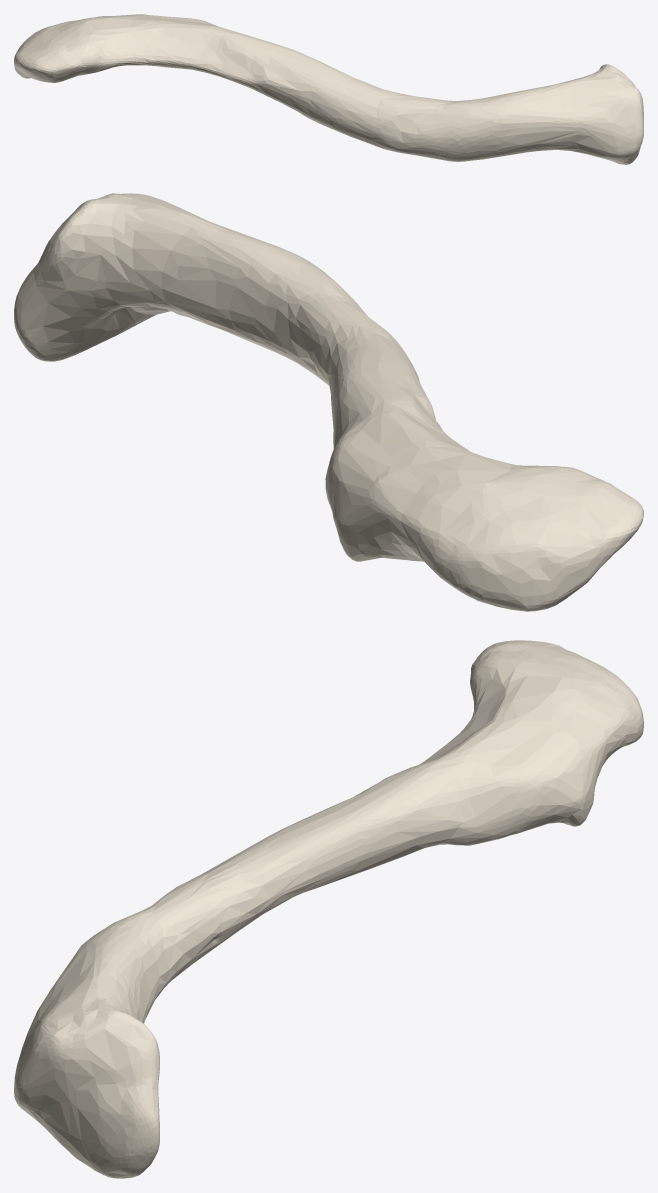
Rendered from clavicle_right.glb.
3 renders of one model, top to bottom at view 1: azimuth 30°, elevation 25°; view 2: azimuth 150°, elevation 25°; view 3: azimuth 270°, elevation 25°, orthographic. The views are drawn at different scales.
Size of the model in its own units: 0.1386 by 0.0351 by 0.0995.
